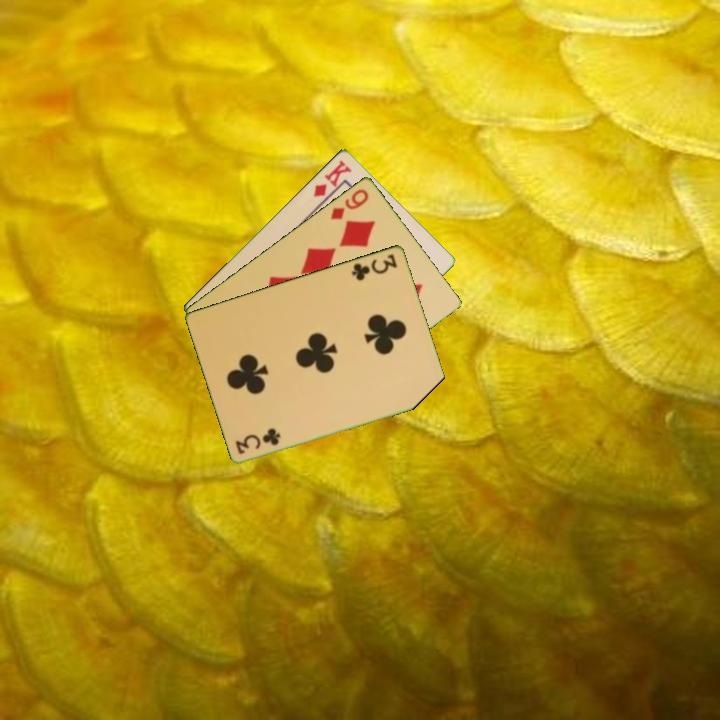3c: (348, 250, 400, 283), (232, 426, 284, 457)
9d: (327, 185, 372, 222)
Kd: (310, 156, 355, 199)
